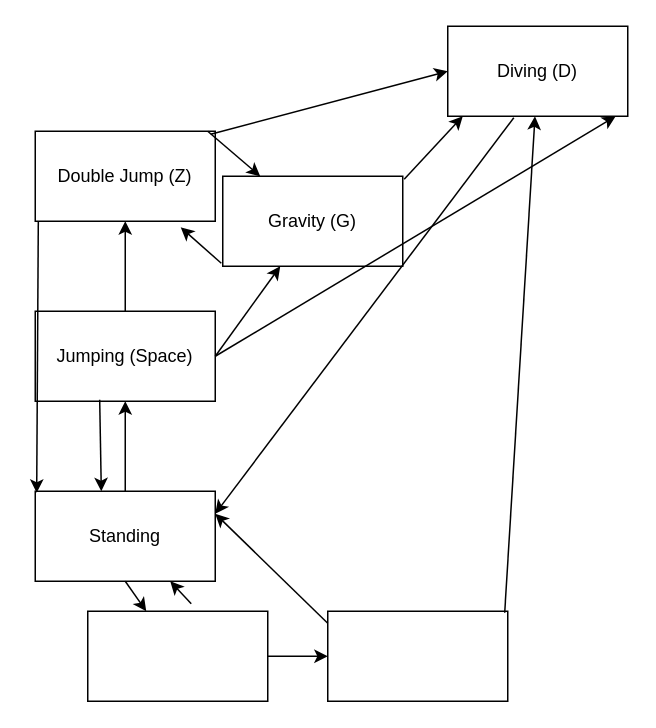
This 656x728 diagram has some shape labels left out. Here are the shapes that lost their labels. From the top down, the centre of each, then its label:
the point at 177,655: Ducking (S)
the point at 417,655: Super Jump (X)
